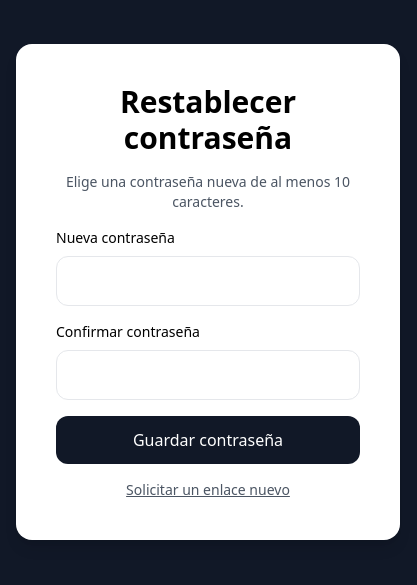
ResetPasswordPage › muestra el error del servidor si el enlace expiró
The image size is (417, 585).
Step 1. Type "Nueva-Clave-456" into the password field labelled "Nueva contraseña" → (208, 281), box [56,256,360,306]
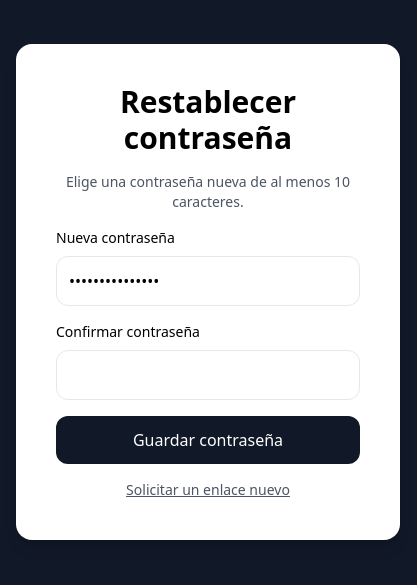
Step 2. Type "Nueva-Clave-456" into the password field labelled "Confirmar contraseña" → (208, 375), box [56,350,360,400]
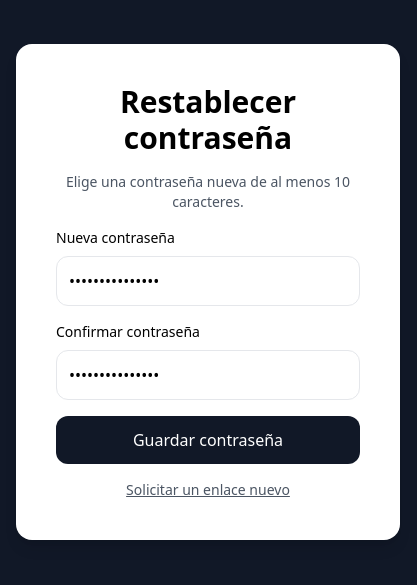
Step 3. Click the button "Guardar contraseña" → (208, 440), box [56,416,360,464]
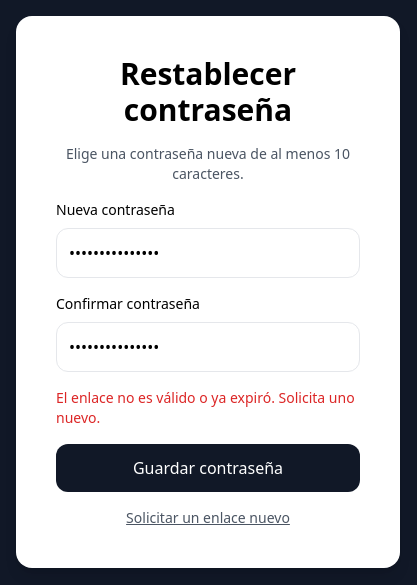
Expected: the message shows "El enlace no es válido o ya expiró.", [56,388,355,427]
